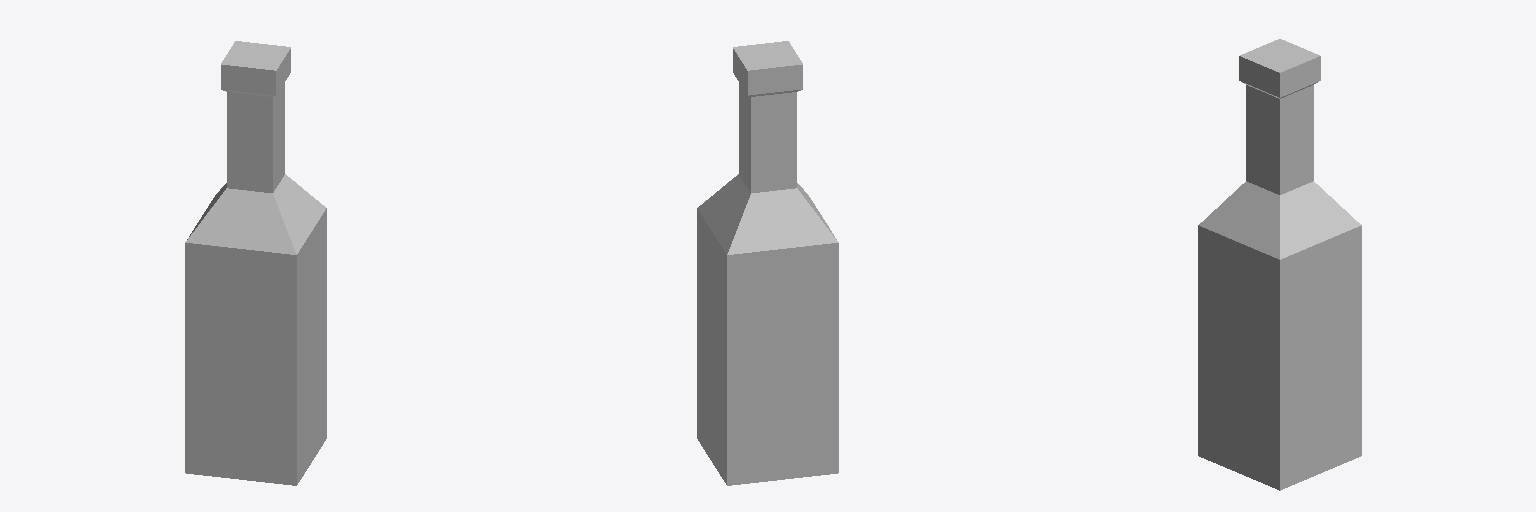
The model's file is Glass_bottle.obj.
3 renders of one model, left to right at view 1: azimuth 30°, elevation 25°; view 2: azimuth 150°, elevation 25°; view 3: azimuth 270°, elevation 25°, orthographic.
Parts seen in each view (by area): view 1: pCylinder1; view 2: pCylinder1; view 3: pCylinder1.
Boxes of the visible parts, <box> form: pCylinder1: <box>185,41,326,485</box>; pCylinder1: <box>697,41,838,485</box>; pCylinder1: <box>1198,39,1361,490</box>.
Size of the model in its own units: 1.25 by 3.38 by 1.25.